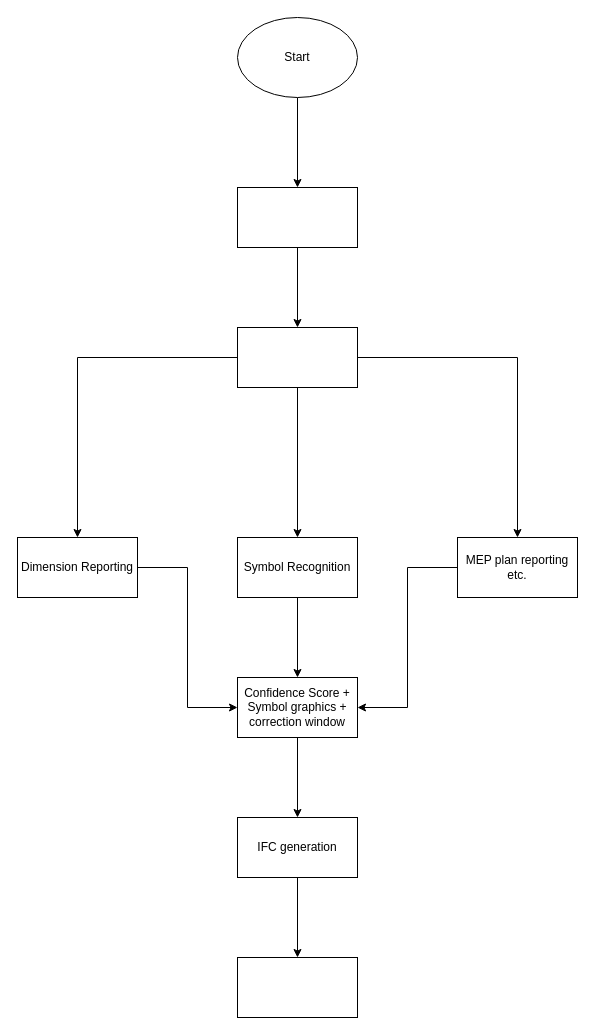
Image size: 595x1035. Some labels were removed from this diagram. Here are the shapes that lost their labels. From the top down, the box of each, then its label:
(236, 186, 358, 248): User provded 2D floorplan PDF
(236, 326, 358, 388): Floorplan Parser
(236, 956, 358, 1018): 3D model loaded in blender with LLM interface
